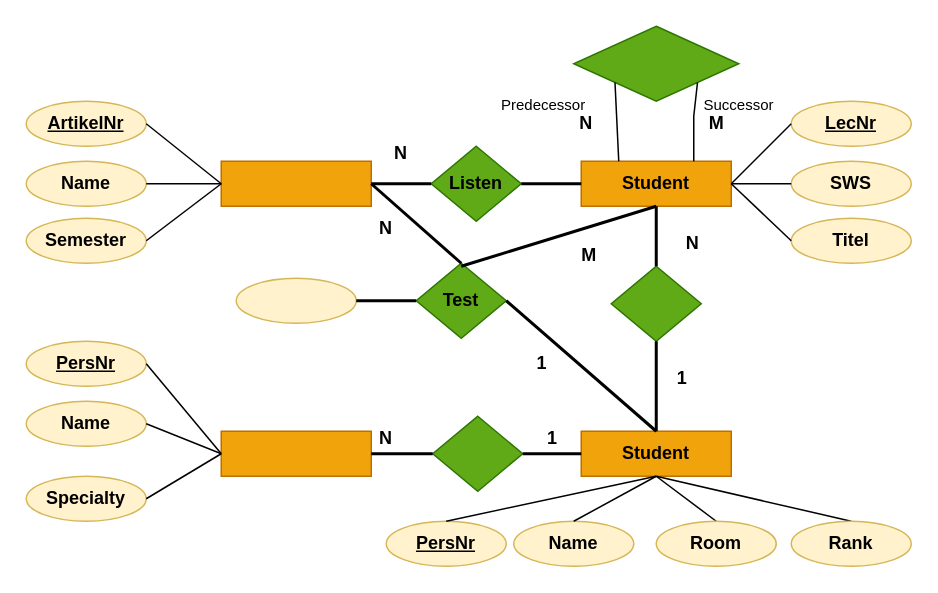
Some shapes in this 938 by 593 pixel diagram are drawn without their labels. Here are the shapes that lost their labels. From the top down, the box of each, then its label:
(572, 25, 739, 101): Prerequisite
(220, 160, 371, 206): Students
(235, 277, 356, 323): Note
(610, 265, 701, 341): Read
(220, 430, 371, 476): Assistants
(431, 415, 523, 491): WorkFor
